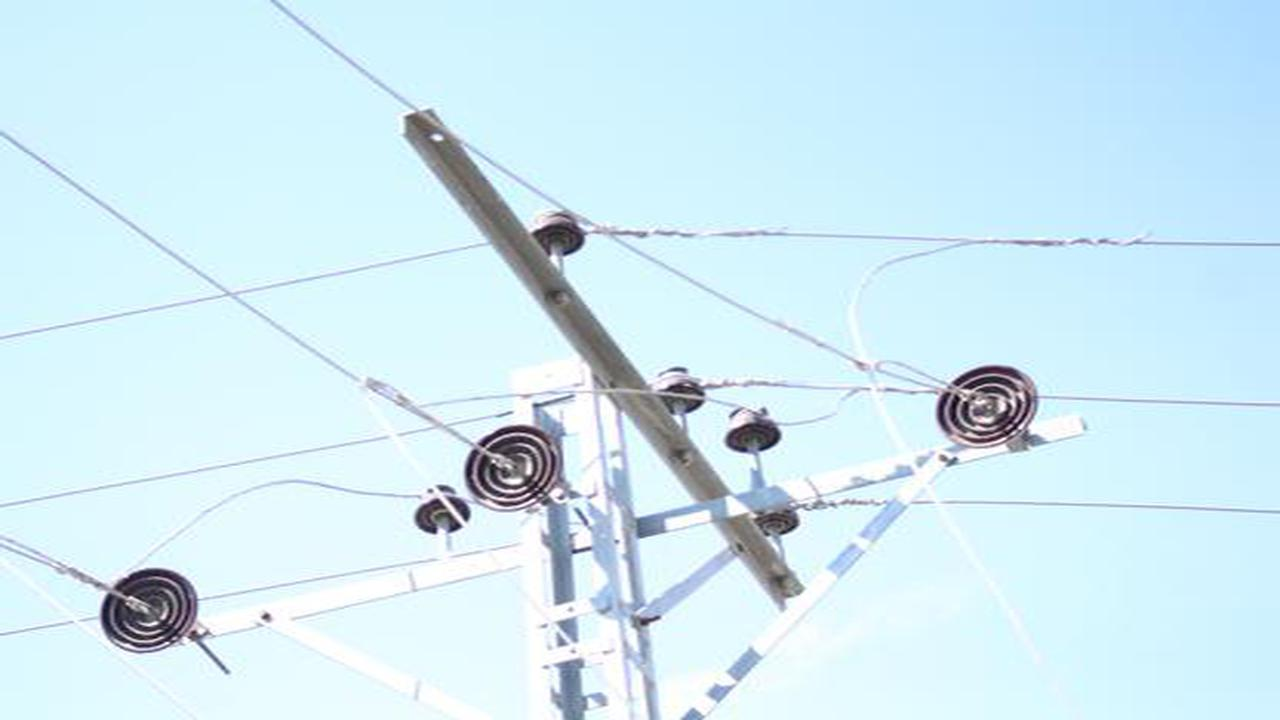insulator_disc: (935, 363, 1042, 455), (97, 563, 199, 653), (461, 423, 561, 512)
insulator_pin: (722, 403, 784, 456), (413, 479, 473, 533), (527, 203, 586, 257), (650, 362, 706, 414)
